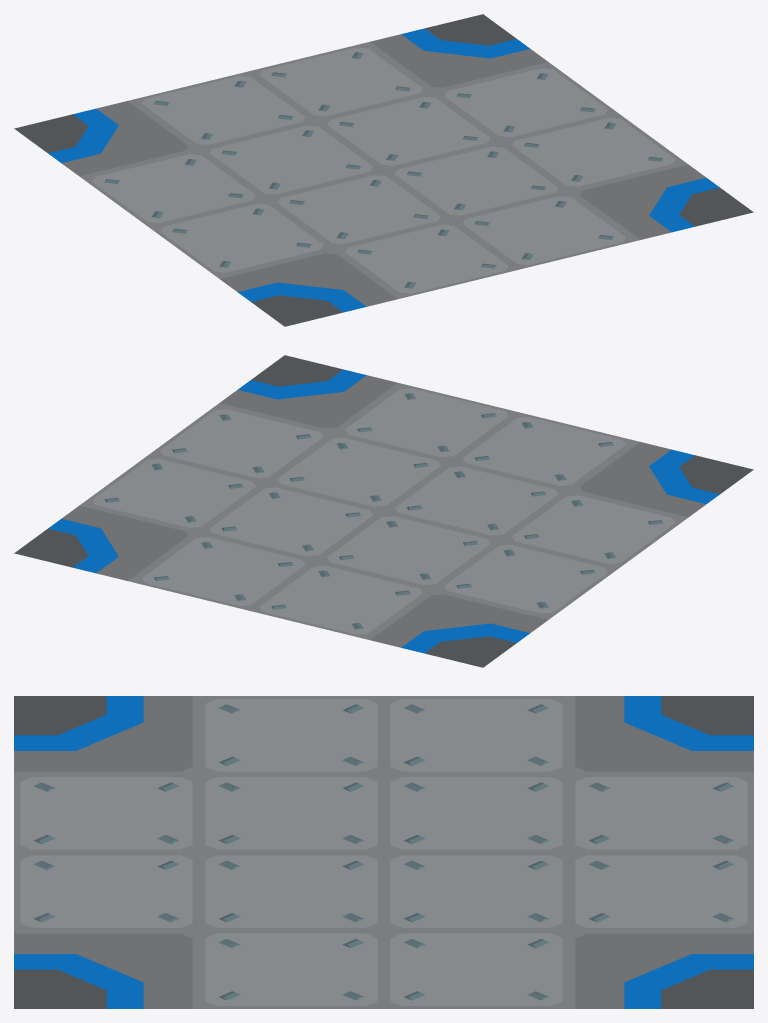
Rendered from Floor_type_B_004.glb.
The picture shows the model from 3 angles, top to bottom: view 1: azimuth 30°, elevation 25°; view 2: azimuth 150°, elevation 25°; view 3: azimuth 270°, elevation 25°; orthographic projection. The views are drawn at different scales.
Visible parts, largest first — view 1: Floor_type_B_004; view 2: Floor_type_B_004; view 3: Floor_type_B_004.
Boxes of the visible parts, x1,y1,x2,y2 form: Floor_type_B_004: (14, 14, 753, 326); Floor_type_B_004: (14, 355, 753, 667); Floor_type_B_004: (14, 696, 753, 1008).
Bounding box in the file's own units: 4 × 0.008 × 4.
Materials: 2 (2 with a texture image).
